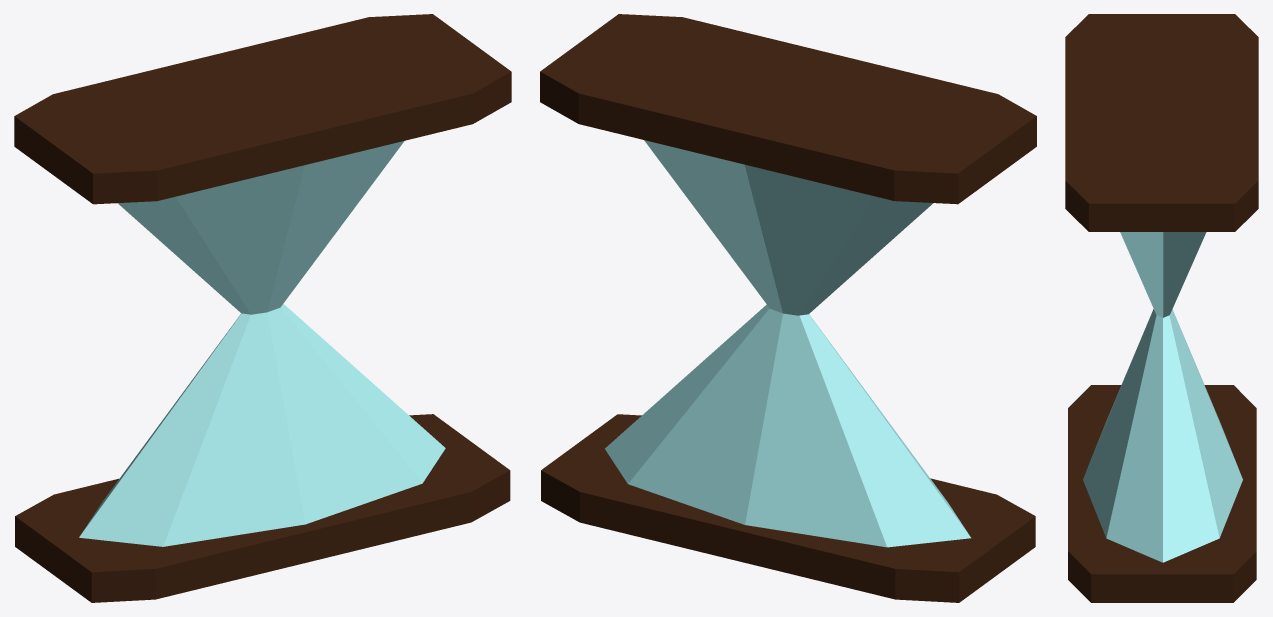
File: hourglass.fbx
The picture shows the model from 3 angles, left to right: view 1: azimuth 30°, elevation 25°; view 2: azimuth 150°, elevation 25°; view 3: azimuth 270°, elevation 25°; orthographic projection. The views are drawn at different scales.
Visible parts, largest first — view 1: Cube.001, Cone, Cube, Cone.001; view 2: Cube.001, Cone, Cube, Cone.001; view 3: Cube.001, Cone, Cube, Cone.001.
Part boxes in pixels (x1=…): Cube.001: x1=14, y1=14, x2=511, y2=204; Cone: x1=79, y1=304, x2=445, y2=546; Cube: x1=15, y1=414, x2=510, y2=602; Cone.001: x1=117, y1=141, x2=404, y2=314; Cube.001: x1=540, y1=14, x2=1036, y2=204; Cone: x1=605, y1=304, x2=970, y2=547; Cube: x1=541, y1=414, x2=1035, y2=602; Cone.001: x1=644, y1=140, x2=933, y2=315; Cube.001: x1=1065, y1=14, x2=1258, y2=231; Cone: x1=1083, y1=309, x2=1242, y2=562; Cube: x1=1068, y1=385, x2=1256, y2=602; Cone.001: x1=1120, y1=232, x2=1206, y2=317.
Bounding box in the file's own units: 200 × 196 × 86.29.
